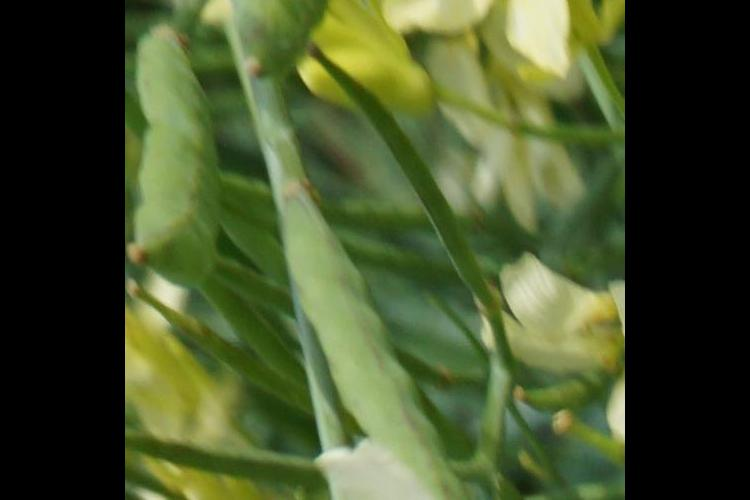pod: (265, 182, 429, 462), (146, 14, 232, 290), (229, 1, 360, 95)
white: (385, 1, 592, 69)
